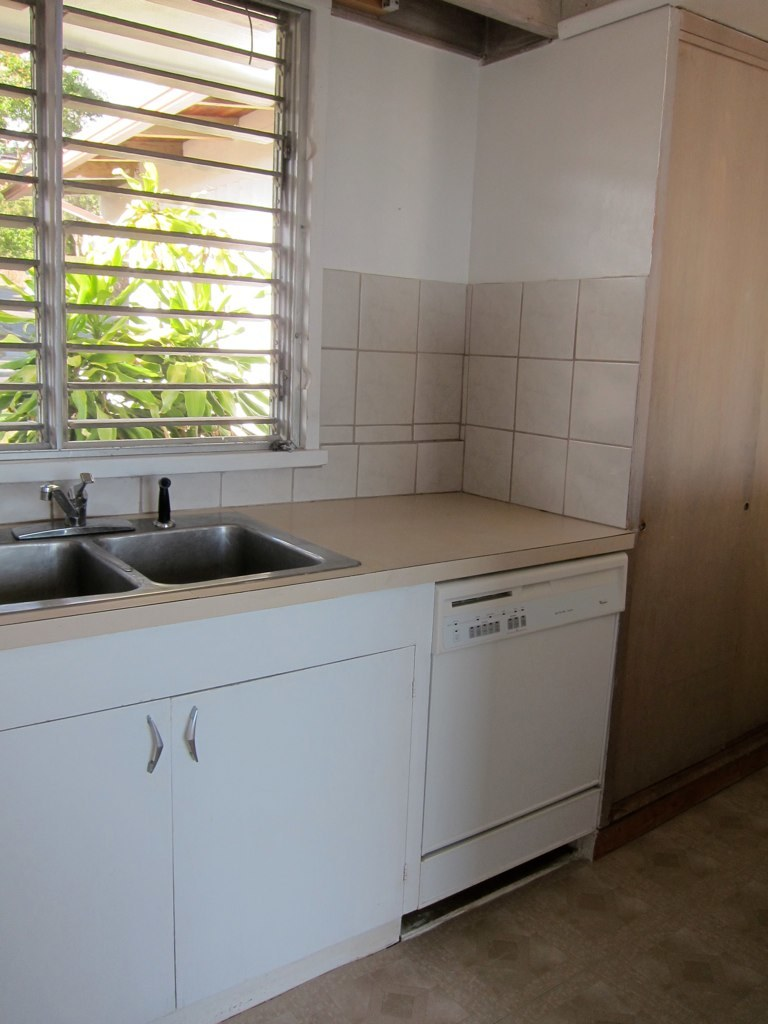tap: (40, 476, 101, 524)
